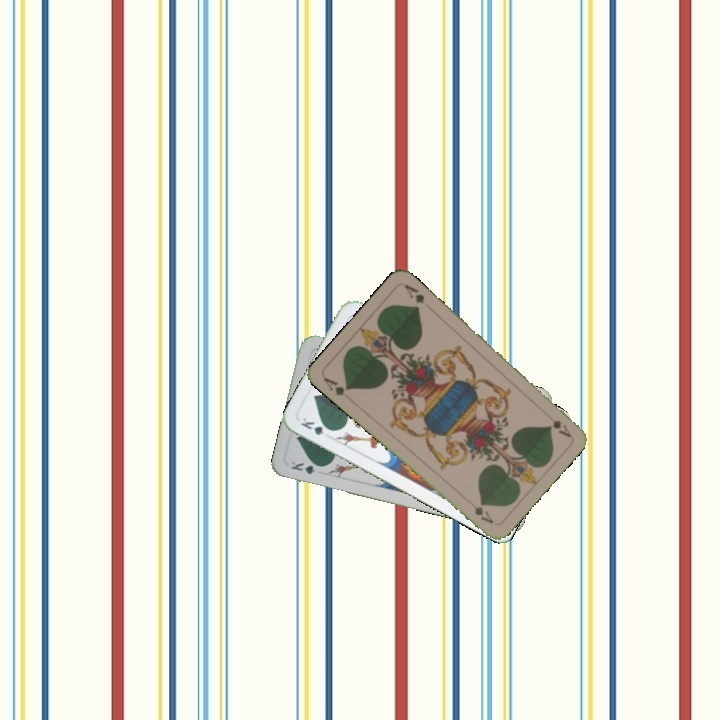GA: (319, 373, 353, 398), (549, 416, 574, 440)
GK: (296, 414, 336, 438), (287, 456, 327, 477)
